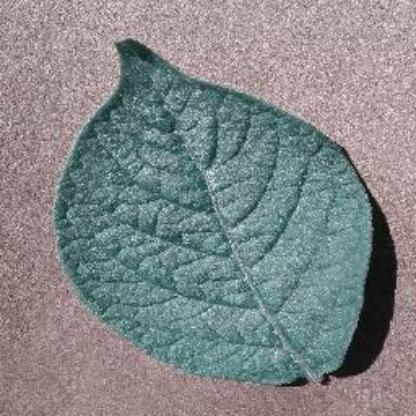Healthy-plant: (51, 29, 393, 395)
